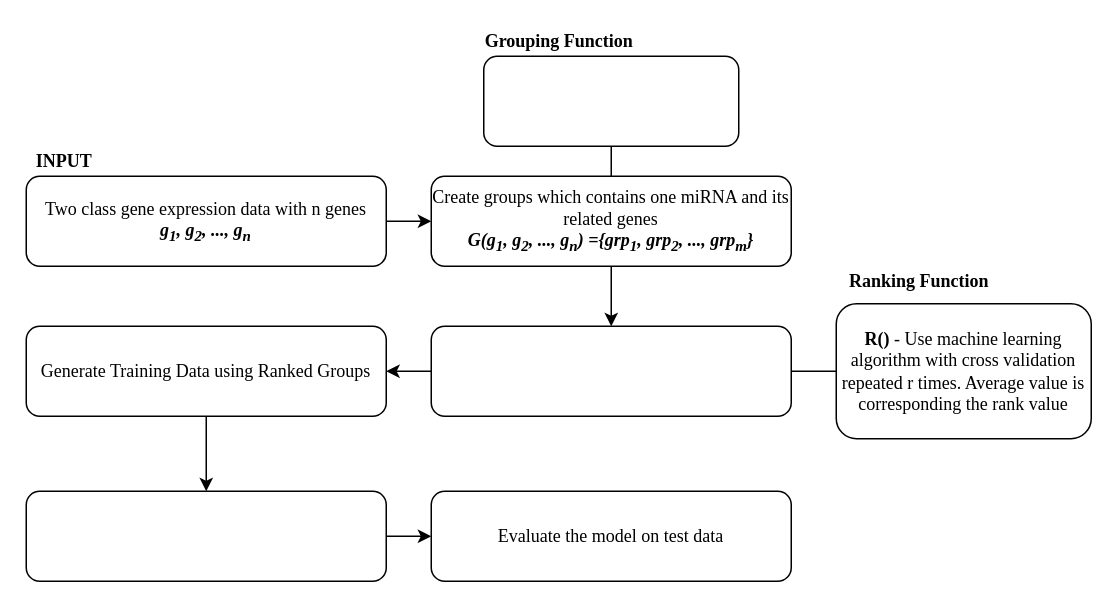
Some shapes in this 1118 by 608 pixel diagram are drawn without their labels. Here are the shapes that lost their labels. From the top down, the centre of each, then its label:
At (x=610, y=100): "G()".
At (x=610, y=370): "Assign a score for each group R ( grp 1 , grp 2 , ..., grp m )".
At (x=205, y=535): "Build classifier model from the top j groups".
